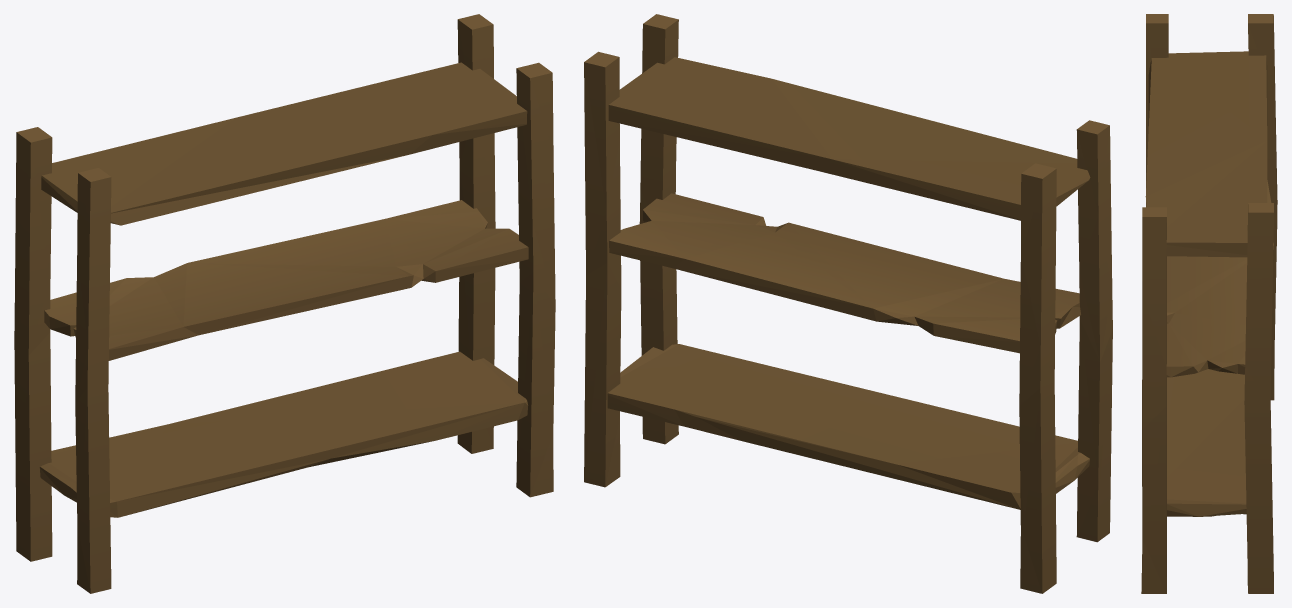
The model's file is Shelving_01.fbx.
The picture shows the model from 3 angles, left to right: view 1: azimuth 30°, elevation 25°; view 2: azimuth 150°, elevation 25°; view 3: azimuth 270°, elevation 25°; orthographic projection. The views are drawn at different scales.
Visible parts, largest first — view 1: Shelving_01; view 2: Shelving_01; view 3: Shelving_01.
Boxes of the visible parts, x1,y1,x2,y2 form: Shelving_01: (14,14,555,593); Shelving_01: (584,14,1112,593); Shelving_01: (1141,14,1277,593).
Bounding box in the file's own units: 1.12 × 0.9714 × 0.3141.
